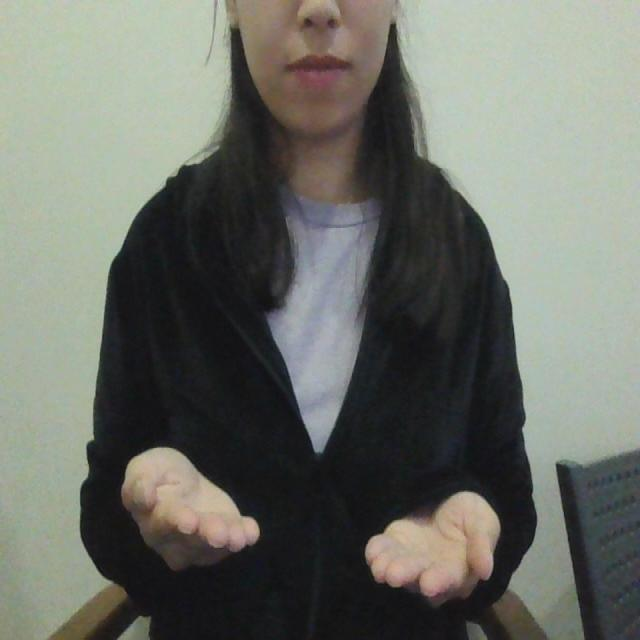Evet: (117, 442, 506, 612)
